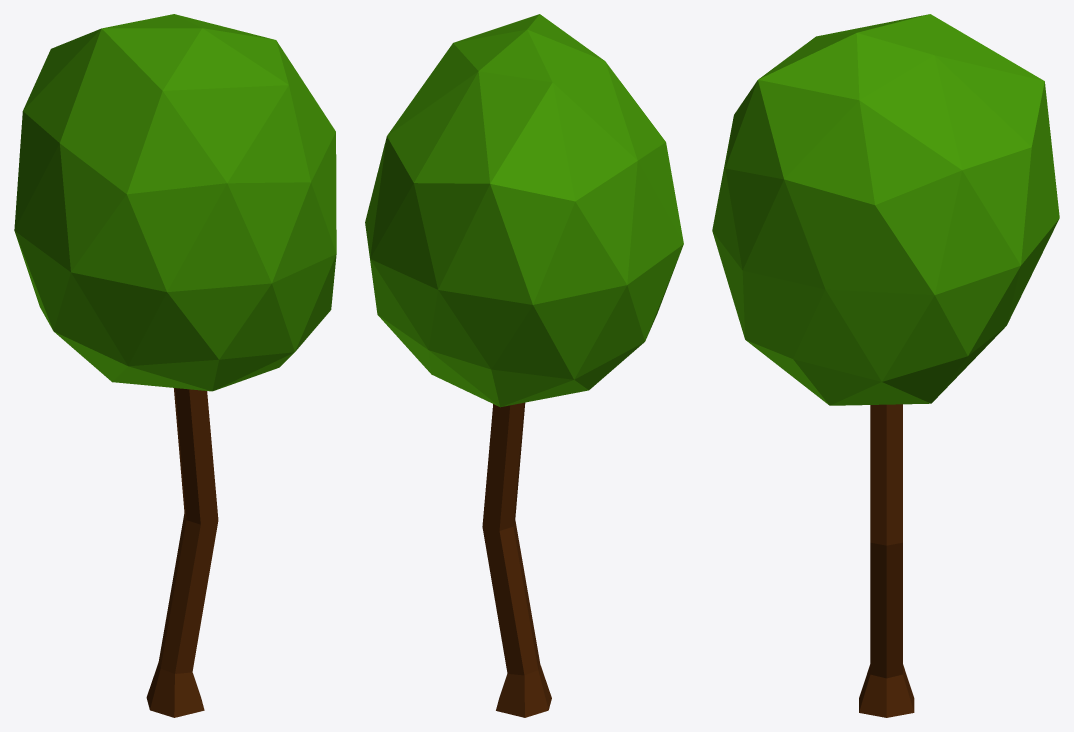
Rendered from tree8.fbx.
3 views of the same model, side by side, from view 1: azimuth 30°, elevation 25°; view 2: azimuth 150°, elevation 25°; view 3: azimuth 270°, elevation 25° (orthographic). The views are drawn at different scales.
Parts seen in each view (by area): view 1: Low poly tree; view 2: Low poly tree; view 3: Low poly tree.
Part boxes in pixels (<box>): Low poly tree: <box>14,14,336,717</box>; Low poly tree: <box>365,14,683,717</box>; Low poly tree: <box>712,14,1059,717</box>.
Size of the model in its own units: 212 by 504 by 234.
